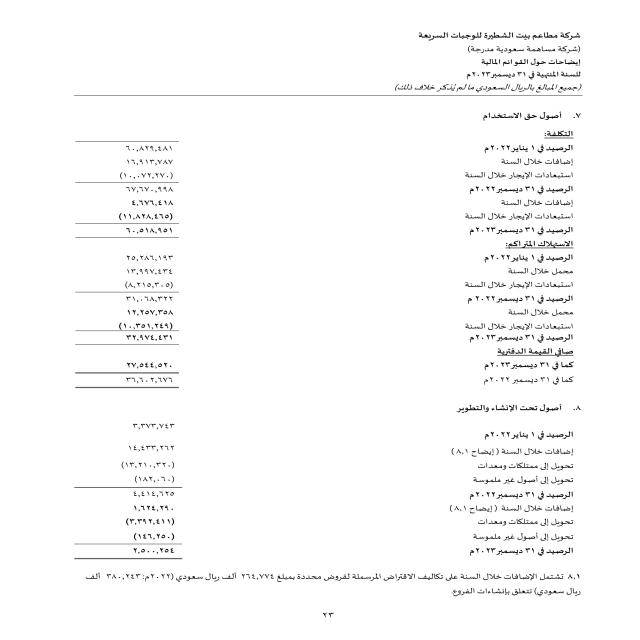notes: (476, 60, 605, 68)
table: (48, 141, 218, 568)
